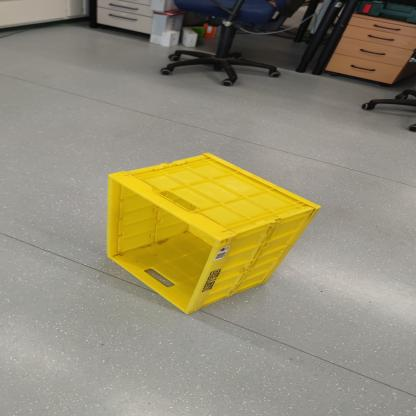box: (103, 121, 325, 329)
